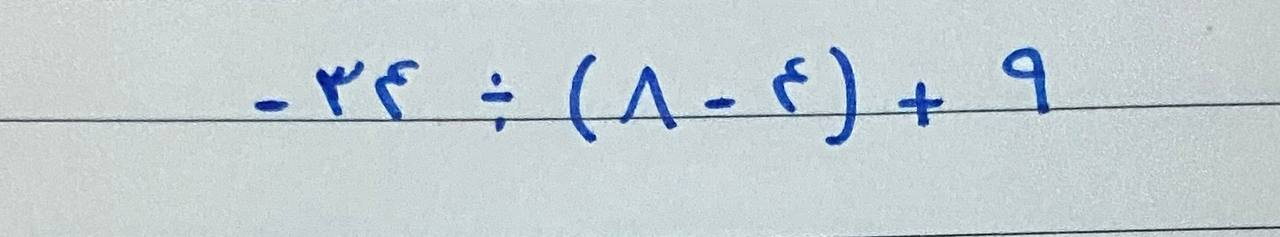character: (619, 64, 678, 129), (1001, 45, 1050, 114), (372, 56, 421, 122), (313, 62, 365, 122), (826, 48, 856, 144), (569, 53, 598, 144), (476, 72, 516, 130), (774, 57, 810, 116), (900, 83, 944, 126), (707, 98, 741, 111), (254, 100, 289, 111)
